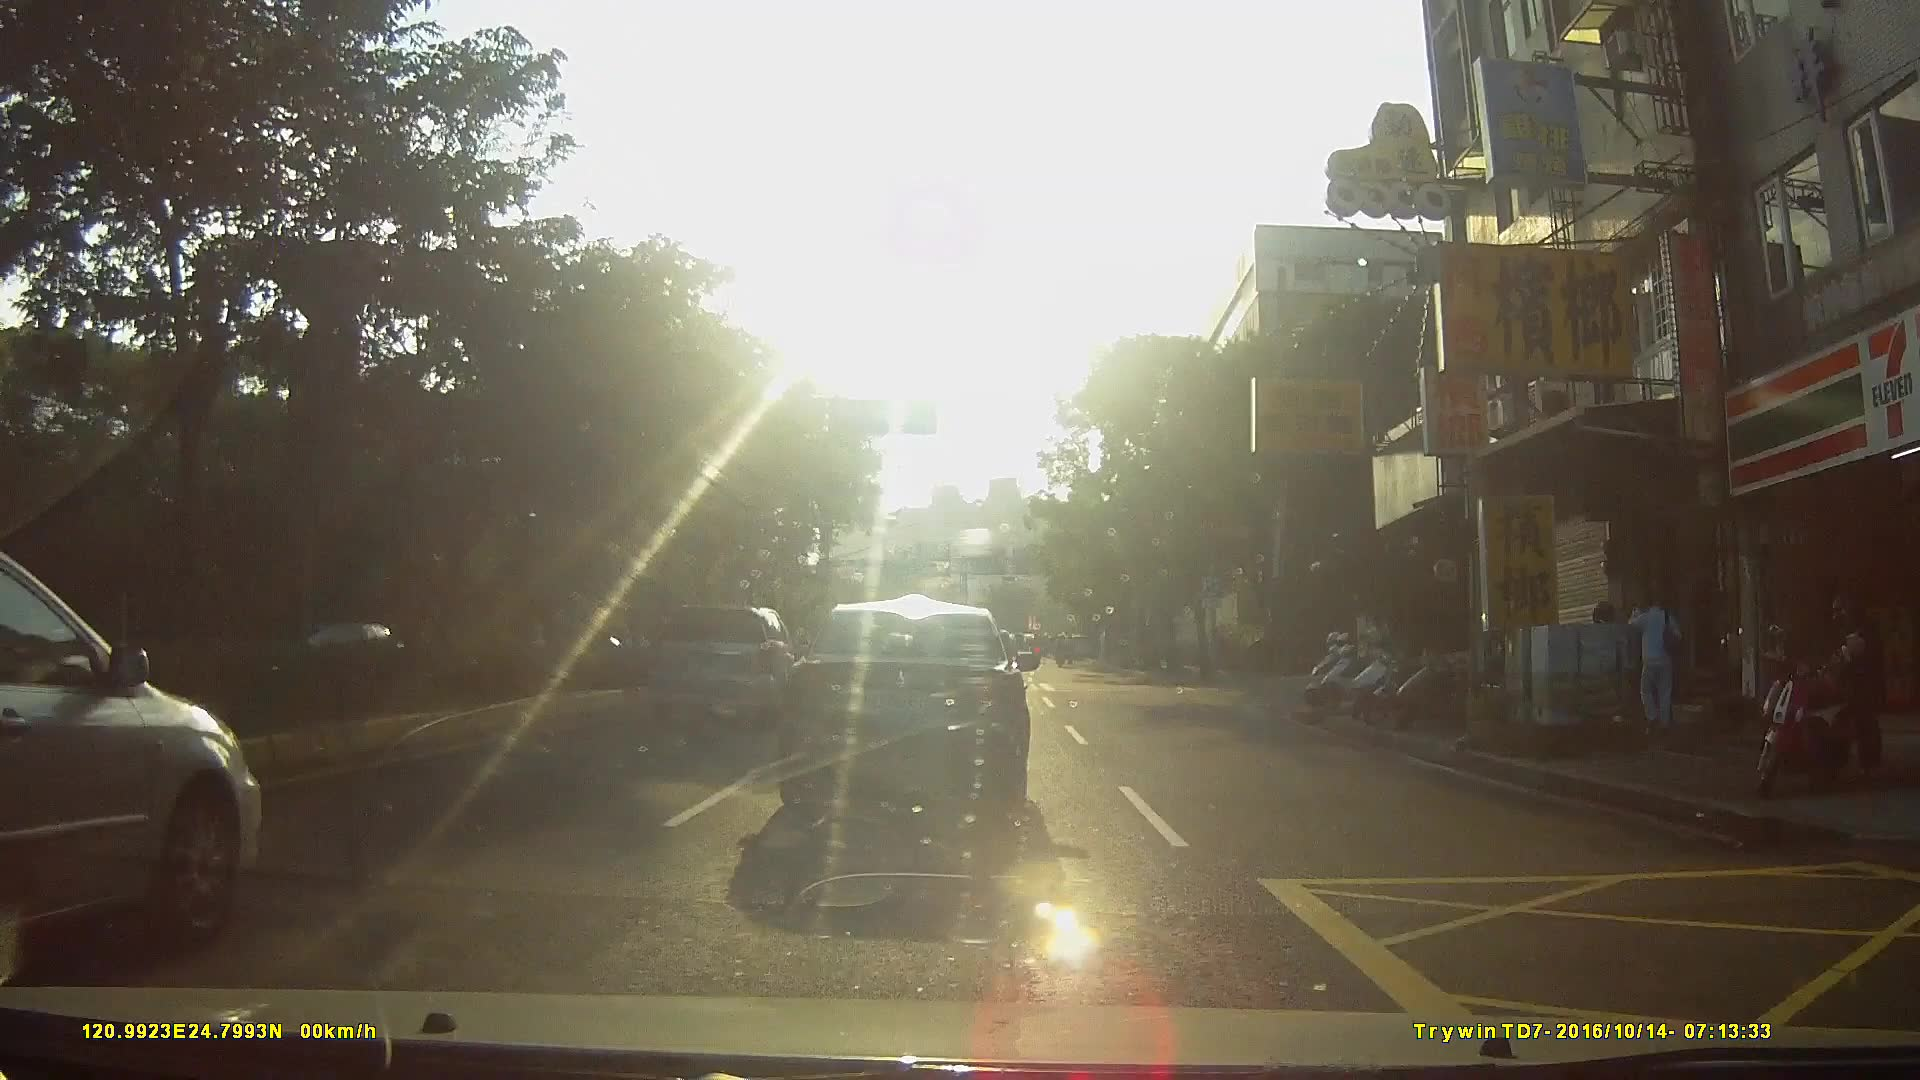pedestrian: (1829, 610, 1896, 788), (1630, 587, 1692, 739)
vehicle: (1, 553, 265, 982), (786, 592, 1059, 830), (645, 602, 806, 727)
